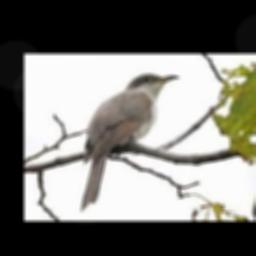Cuckoo: (81, 73, 180, 211)
